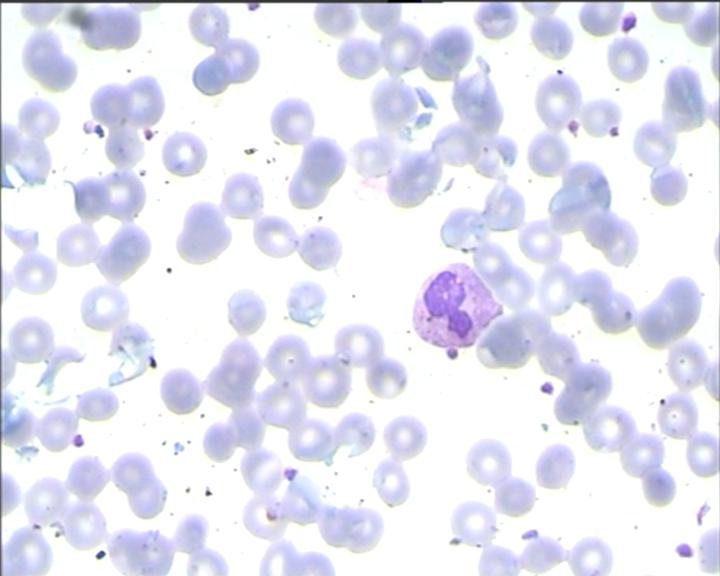neut: (403, 257, 501, 353)
